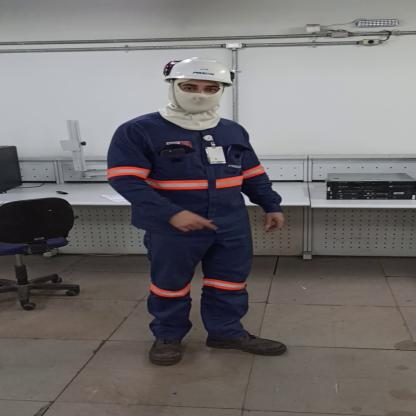Balaclava: (150, 79, 233, 132)
Capacete: (157, 55, 247, 86)
